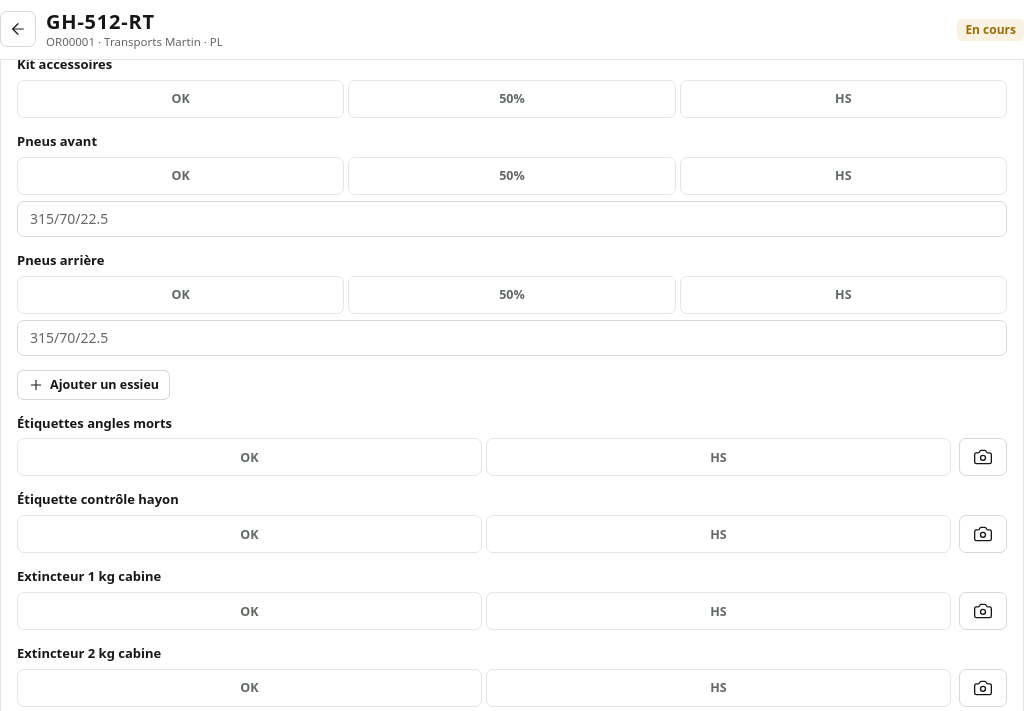
Test: fiche OR technicien › pneus : avant et arrière, essieu ajouté, valeur choisie en couleur
(page scrolled)
Check: the element named "Pneus avant" is shown, box top-left (17, 157), bottom-right (1007, 195)
Check: the element named "Pneus arrière" is shown, box top-left (17, 276), bottom-right (1007, 314)
Click the button "Ajouter un essieu" at (94, 385), box top-left (17, 370), bottom-right (170, 400)
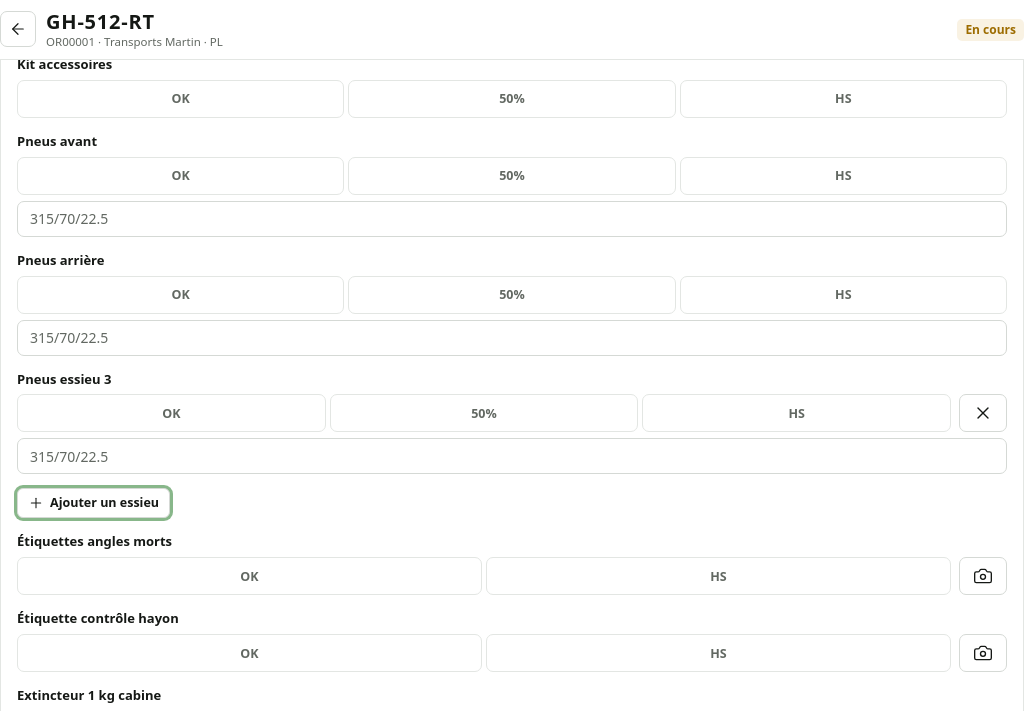
Click the 4th radio button labelled "HS" at (797, 413), box top-left (642, 394), bottom-right (951, 432)
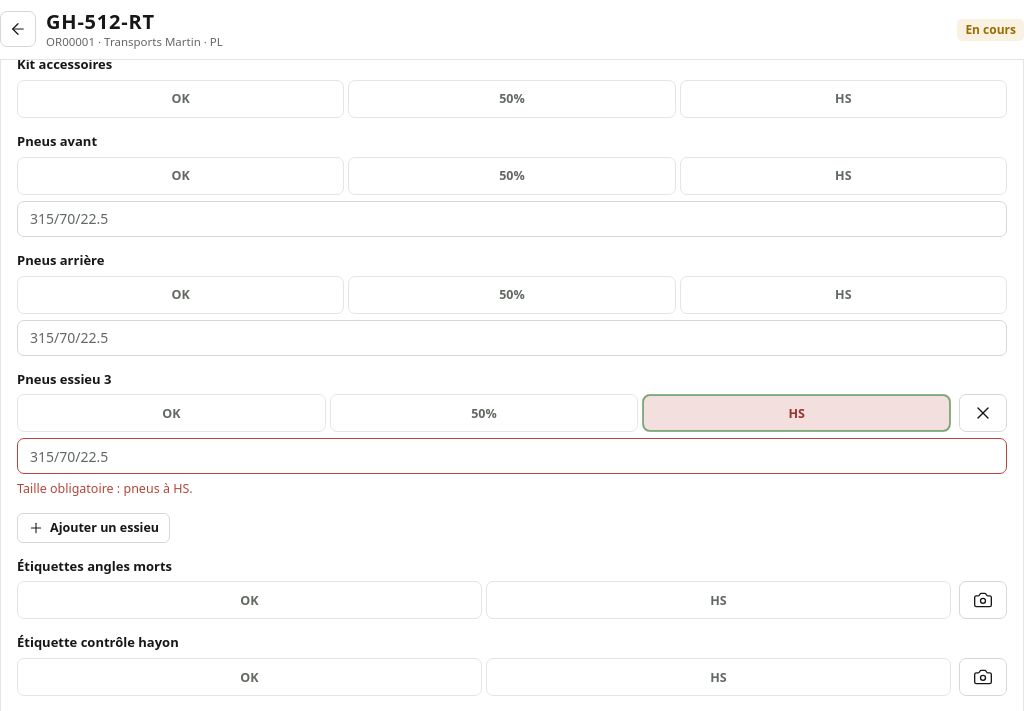
Check: the 4th radio button labelled "HS" has class "tone", box top-left (642, 394), bottom-right (951, 432)
Check: the 4th radio button labelled "HS" has style "--c: #B23A32", box top-left (642, 394), bottom-right (951, 432)
Type "31580225" into the field named "Taille pneus essieu 3" at (512, 456), box top-left (17, 438), bottom-right (1007, 474)
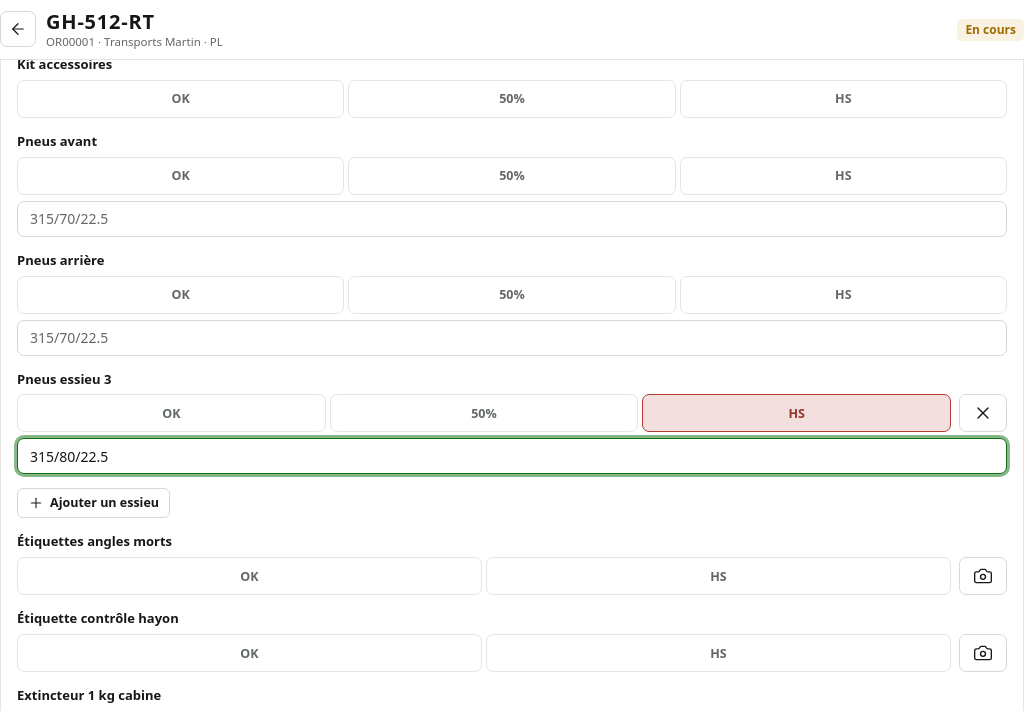
Check: the field named "Taille pneus essieu 3" holds "315/80/22.5", box top-left (17, 438), bottom-right (1007, 474)
Click the button named "Retirer : Pneus essieu 3" at (983, 413), box top-left (959, 394), bottom-right (1007, 432)
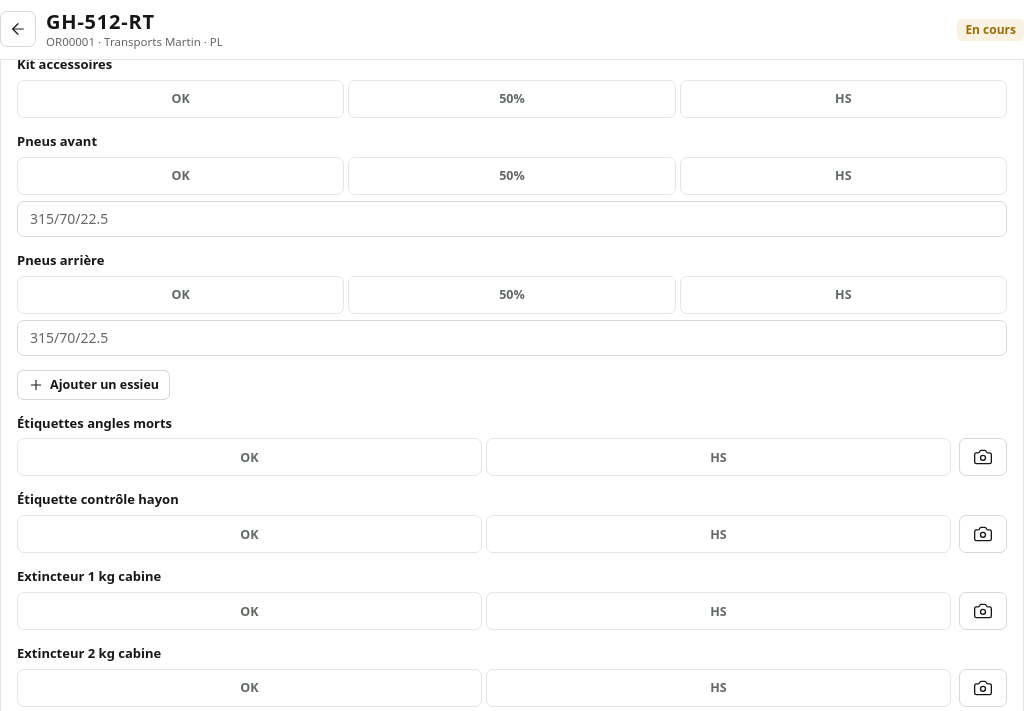
Check: the text "Pneus essieu 3" is gone
